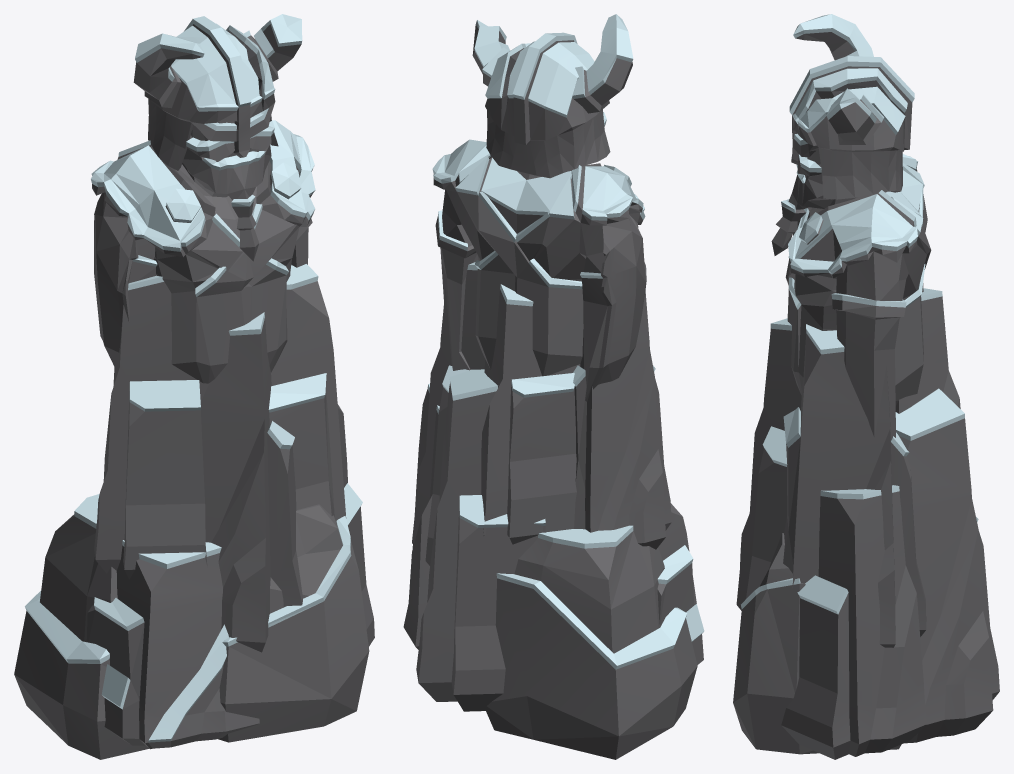
The model's file is Estatua_Piedra.glb.
The picture shows the model from 3 angles, left to right: view 1: azimuth 30°, elevation 25°; view 2: azimuth 150°, elevation 25°; view 3: azimuth 270°, elevation 25°; orthographic projection. The views are drawn at different scales.
Parts seen in each view (by area): view 1: SM_Stone_Statue_01_Snow; view 2: SM_Stone_Statue_01_Snow; view 3: SM_Stone_Statue_01_Snow.
Part boxes in pixels (box(x1,y1,x2,y2)): SM_Stone_Statue_01_Snow: box(14, 14, 374, 759); SM_Stone_Statue_01_Snow: box(403, 14, 704, 759); SM_Stone_Statue_01_Snow: box(733, 14, 999, 759).
Size of the model in its own units: 0.8327 by 1.89 by 0.6716.
1 material, 1 textured.
